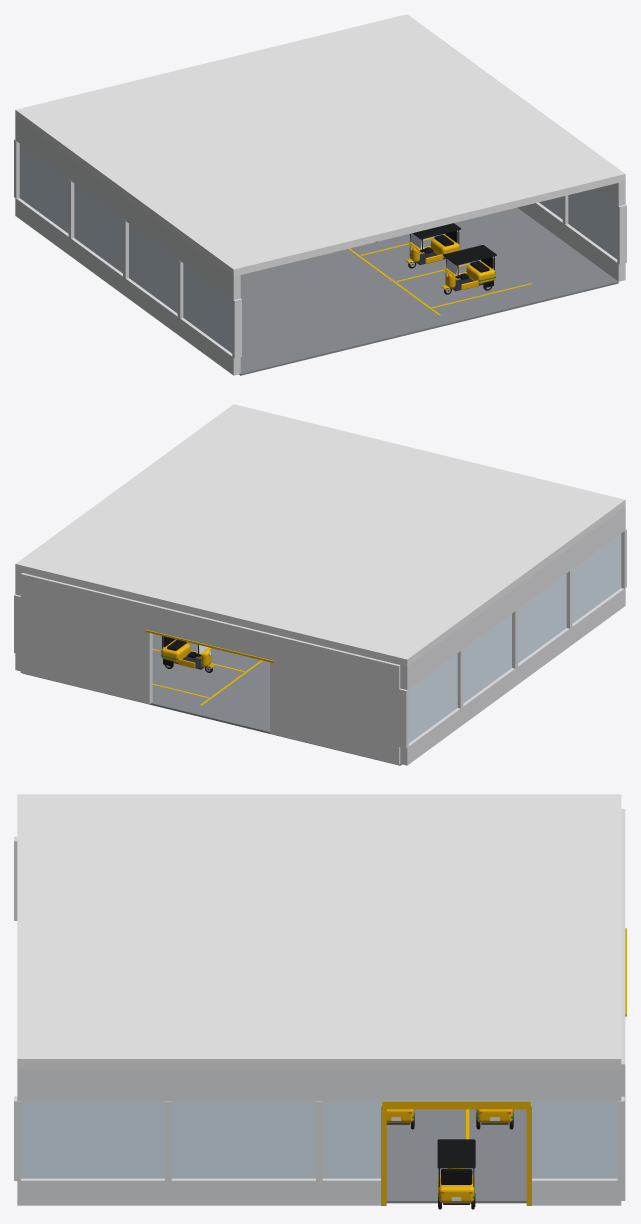
File: fleet.glb
3 renders of one model, top to bottom at view 1: azimuth 30°, elevation 25°; view 2: azimuth 150°, elevation 25°; view 3: azimuth 270°, elevation 25°, orthographic. The views are drawn at different scales.
Parts seen in each view (by area): view 1: fleet_static, fleet_glass; view 2: fleet_static, fleet_glass; view 3: fleet_static, fleet_glass.
Part boxes in pixels (box(x1,y1,x2,y2)): fleet_static: box(14, 14, 626, 375); fleet_glass: box(19, 144, 617, 353); fleet_static: box(14, 404, 626, 765); fleet_glass: box(199, 534, 621, 743); fleet_static: box(14, 794, 626, 1209); fleet_glass: box(21, 1101, 617, 1178).
Size of the model in its own units: 23.58 by 6 by 22.34.
